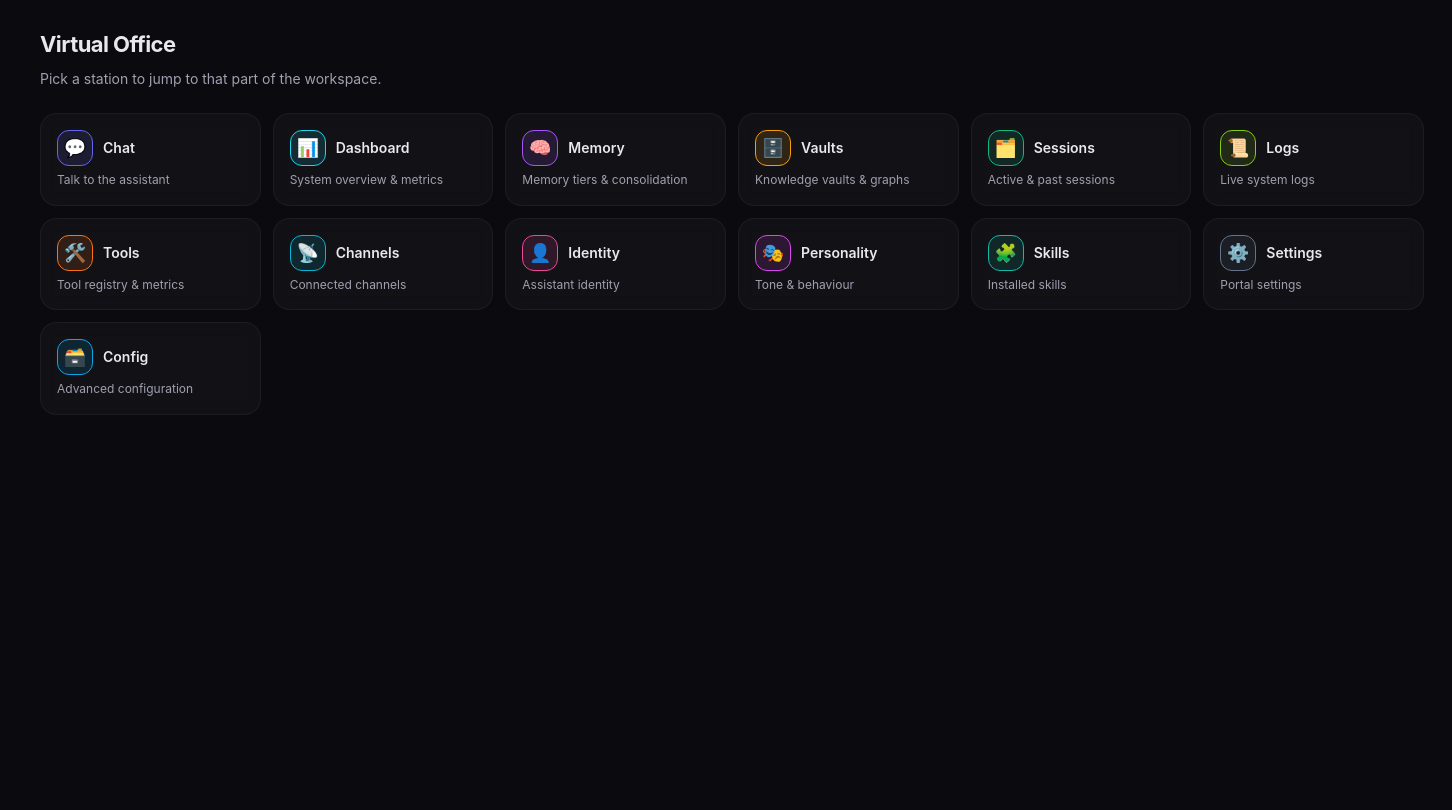
Test: OfficePage (2D fallback) › navigates to a station route when its card is clicked
This screenshot has width=1452, height=810.
Click the button "🧠 Memory Memory tiers & consolidation": (616, 159) [505,113,726,206]
(page scrolled)
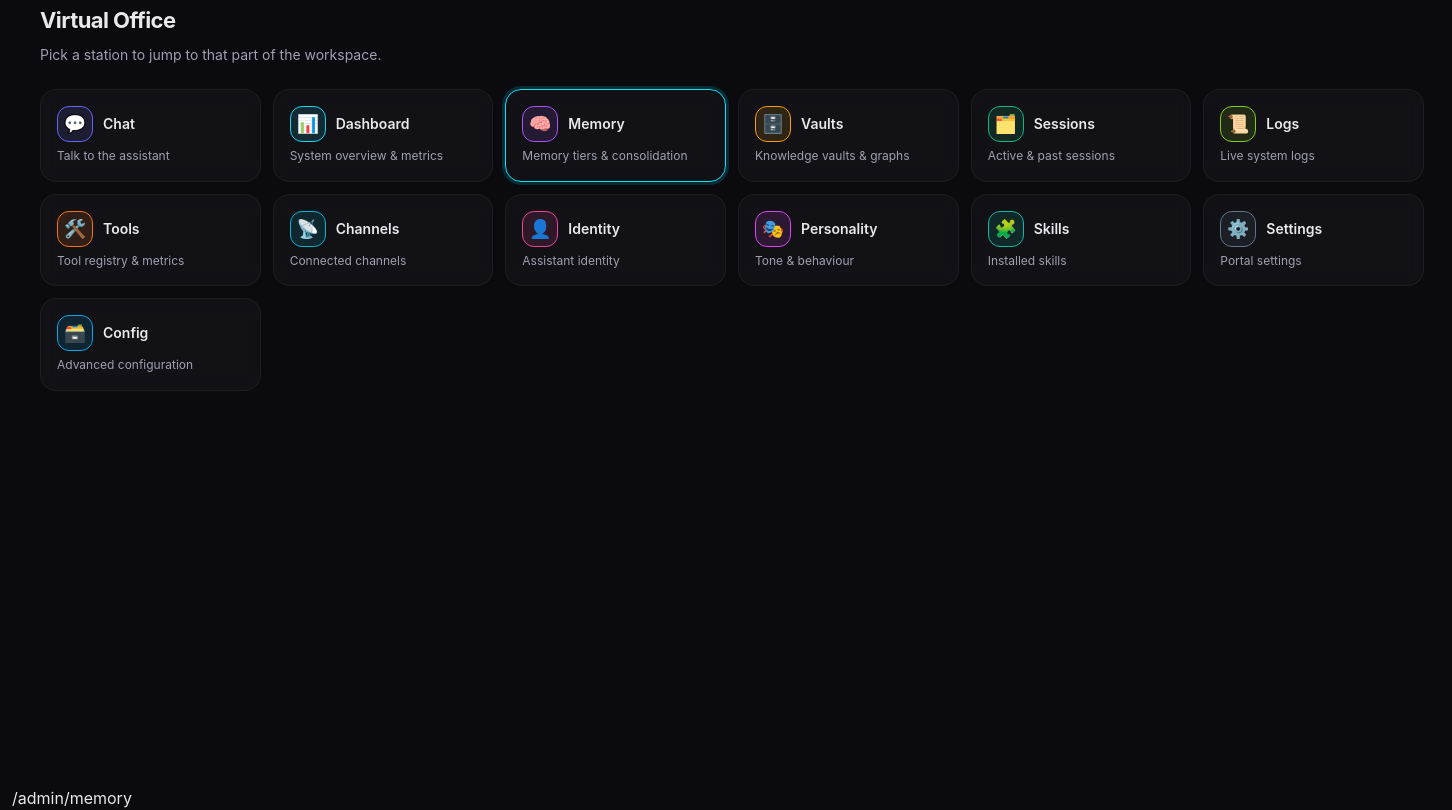
Expected: the text with test id "location" reads "/admin/memory", [12,788,132,808]
